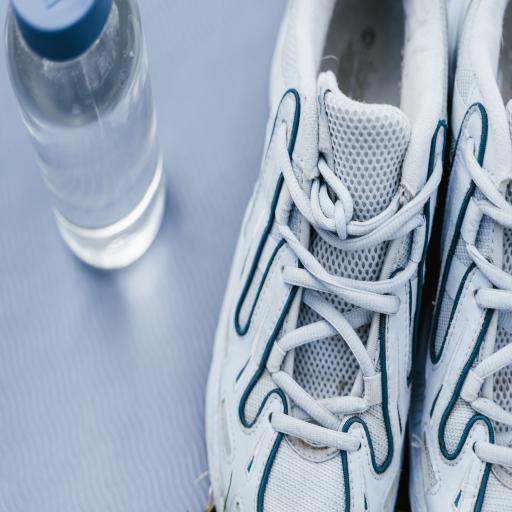shoe: (206, 0, 447, 511), (410, 0, 511, 511)
